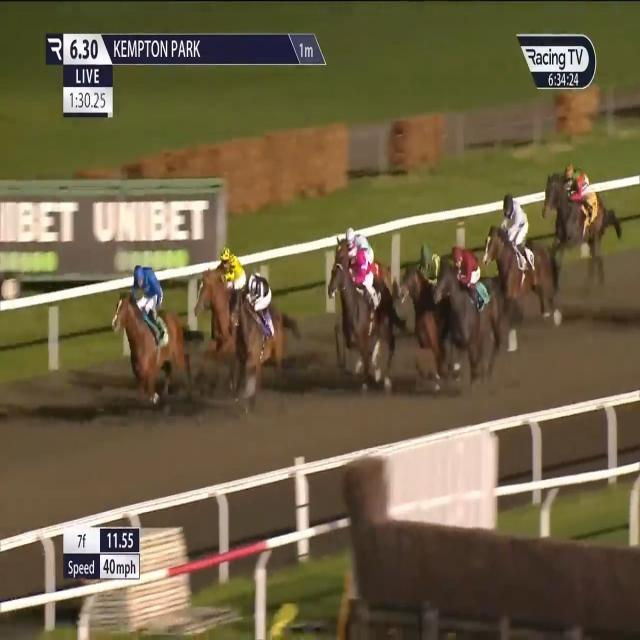horses-racing: (435, 245, 508, 386), (111, 268, 190, 397), (488, 193, 560, 332), (223, 269, 301, 391), (544, 162, 616, 266), (330, 248, 398, 358), (396, 240, 454, 367), (191, 246, 253, 356), (332, 226, 387, 291)
